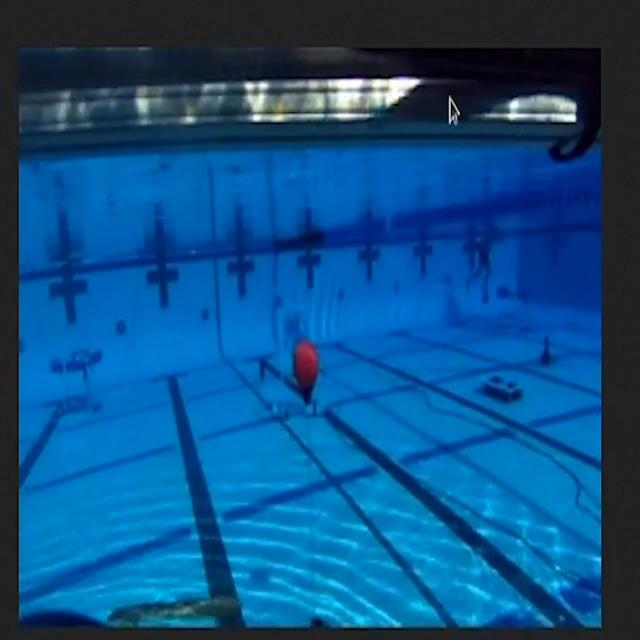Buoy: (294, 330, 319, 408)
